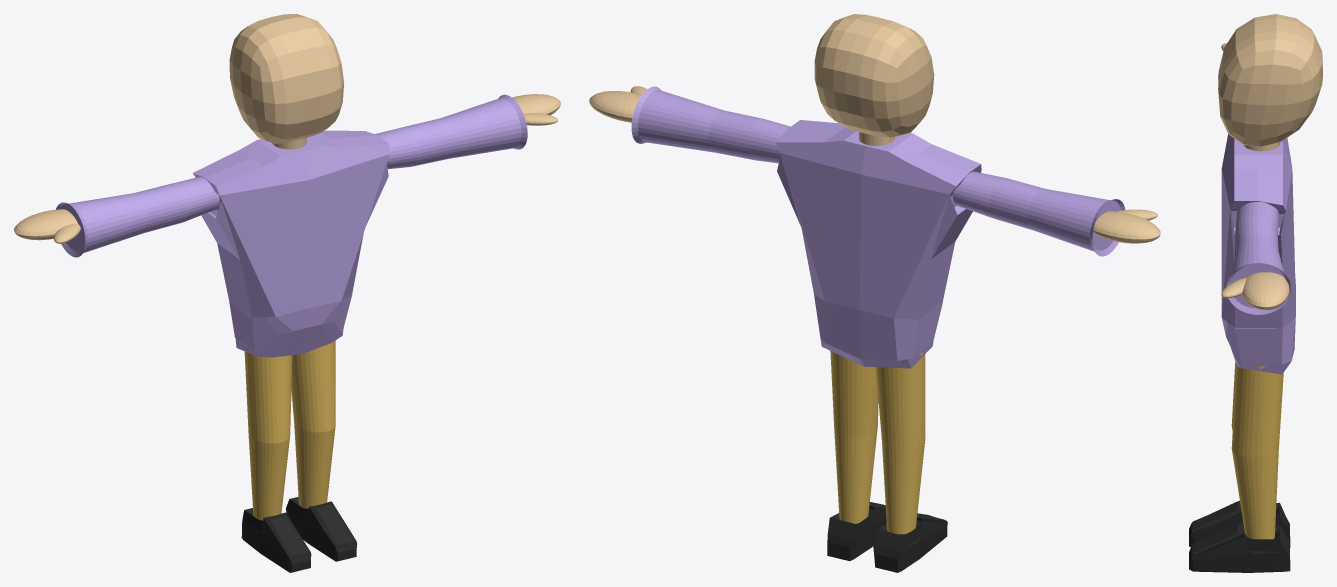
Rendered from La Trombonette_Character 5.fbx.
3 views of the same model, side by side, from view 1: azimuth 30°, elevation 25°; view 2: azimuth 150°, elevation 25°; view 3: azimuth 270°, elevation 25° (orthographic). The views are drawn at different scales.
Visible parts, largest first — view 1: Torse, Jambe, Head, Sphere; view 2: Torse, Jambe, Head, Sphere; view 3: Torse, Jambe, Head, Sphere, Cou.
Boxes of the visible parts, box(x1,y1,x2,y2) form: Torse: box(56, 94, 527, 357); Jambe: box(241, 340, 357, 572); Head: box(229, 14, 344, 143); Sphere: box(14, 94, 560, 243); Torse: box(631, 86, 1125, 368); Jambe: box(827, 351, 947, 572); Head: box(814, 14, 934, 137); Sphere: box(589, 86, 1160, 243); Torse: box(1221, 134, 1295, 374); Jambe: box(1189, 362, 1290, 572); Head: box(1218, 14, 1322, 146); Sphere: box(1221, 43, 1289, 310); Cou: box(1243, 142, 1279, 151).
Bounding box in the file's own units: 1212 × 1097 × 251.
